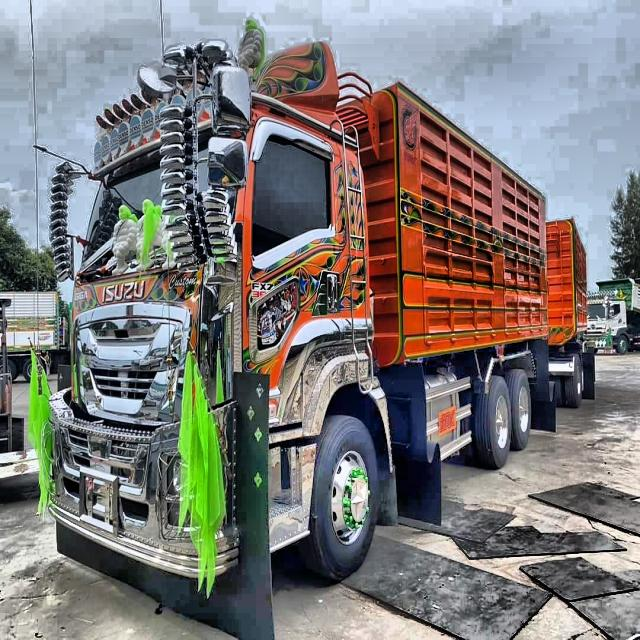trailer: (45, 41, 590, 583)
